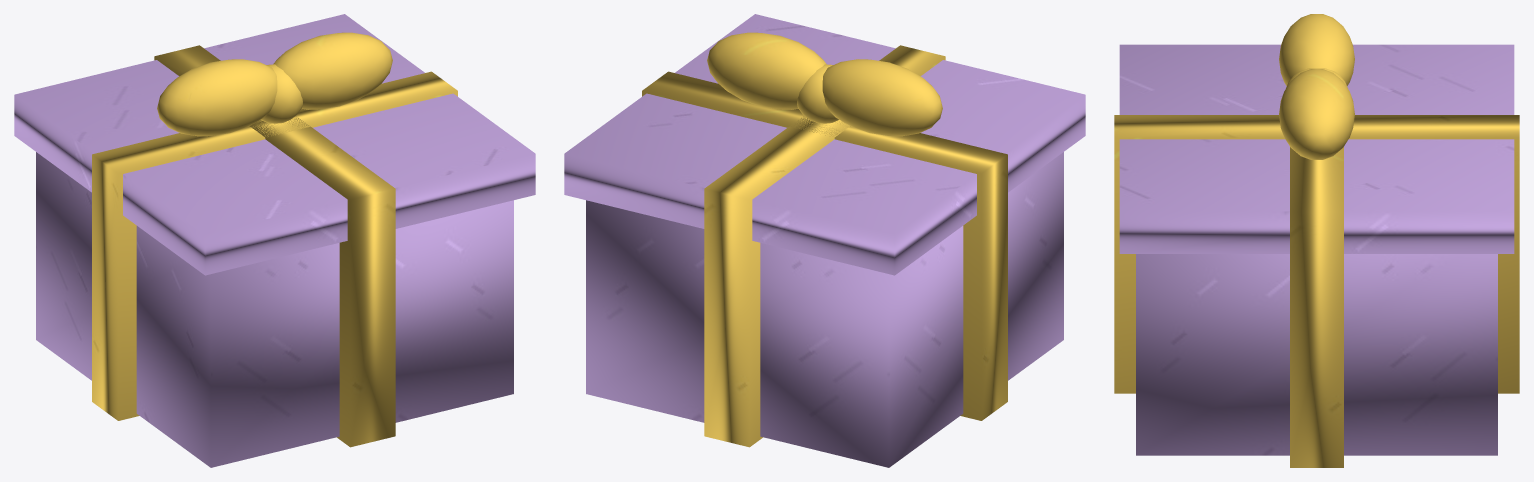
File: regalo_1.obj
3 views of the same model, side by side, from view 1: azimuth 30°, elevation 25°; view 2: azimuth 150°, elevation 25°; view 3: azimuth 270°, elevation 25° (orthographic). The views are drawn at different scales.
Parts seen in each view (by area): view 1: regalo_1; view 2: regalo_1; view 3: regalo_1.
Part boxes in pixels (left/top/right/bottom): regalo_1: left=14, top=14, right=535, bottom=467; regalo_1: left=564, top=14, right=1085, bottom=467; regalo_1: left=1114, top=14, right=1519, bottom=467.
Size of the model in its own units: 1.12 by 1.01 by 1.12.
2 materials, 2 textured.
